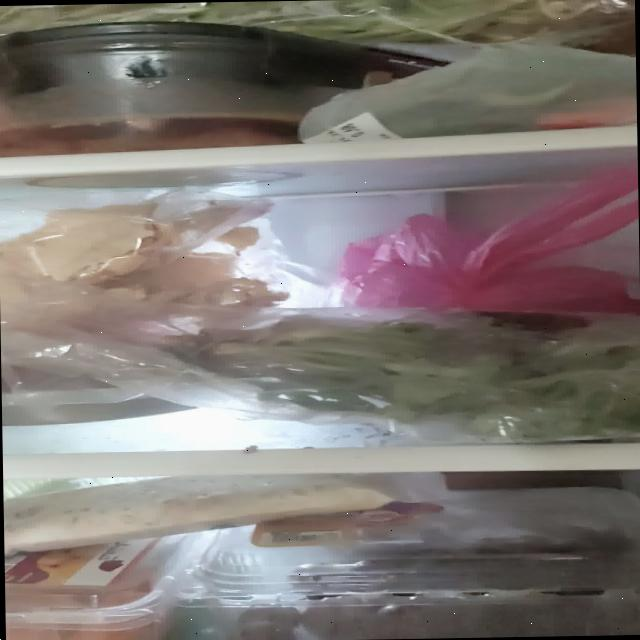grape: (235, 528, 640, 640)
leafy_greens: (197, 306, 640, 447)
tempeh: (3, 472, 395, 554)
unknown_bag: (334, 175, 640, 318), (294, 44, 637, 146)
